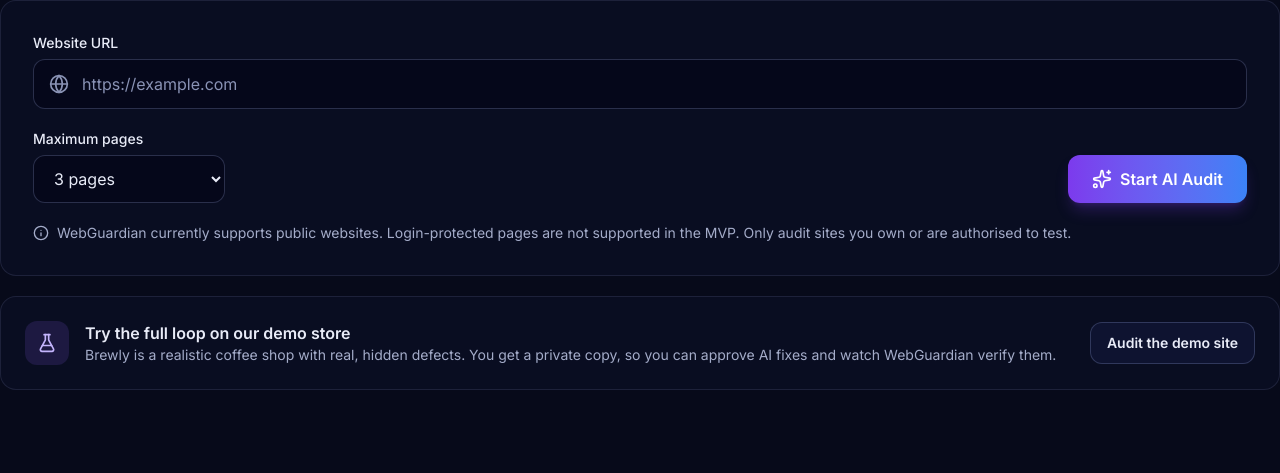
Test: AuditForm (critical flow: start an audit) › shows server errors (e.g. blocked private addresses)
Type "https://intranet.example.com" into the field labelled "Website URL" at coordinates (640, 84), box [33, 59, 1247, 109]
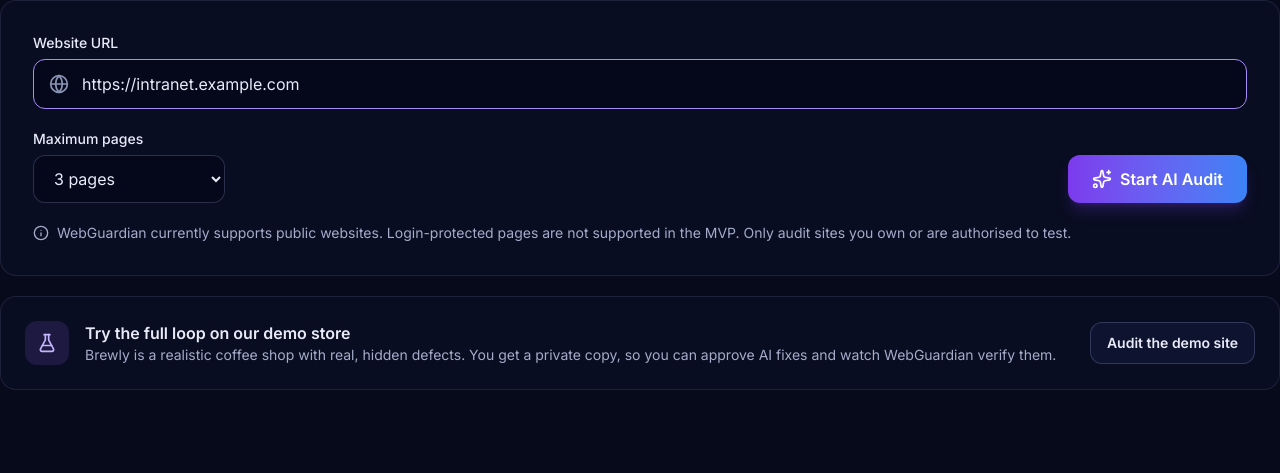
Click the button "Start AI Audit" at coordinates (1158, 179), box [1068, 155, 1247, 203]
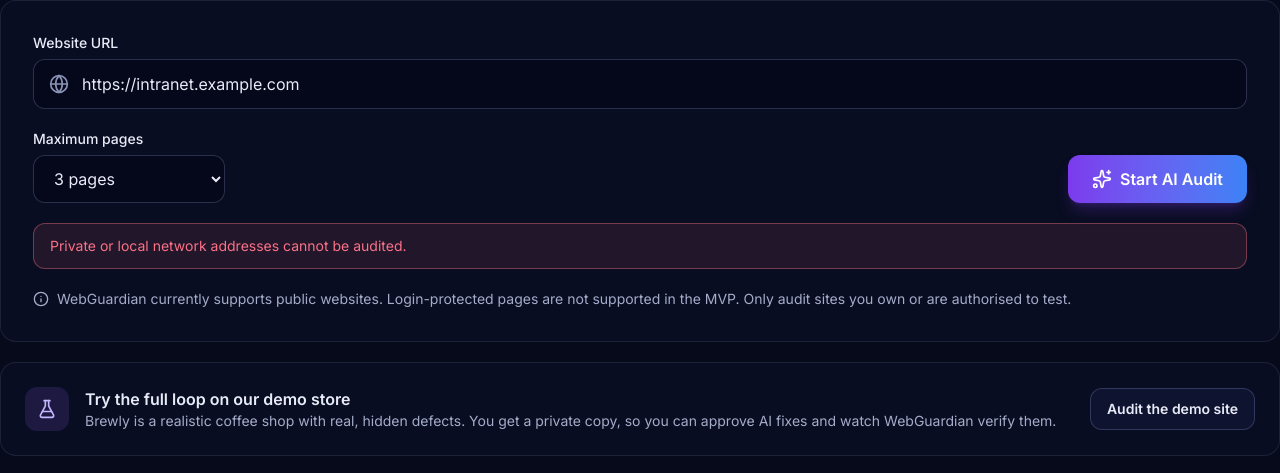
Check: the message reads "Private or local network addresses cannot be audited.", box [50, 237, 406, 254]
